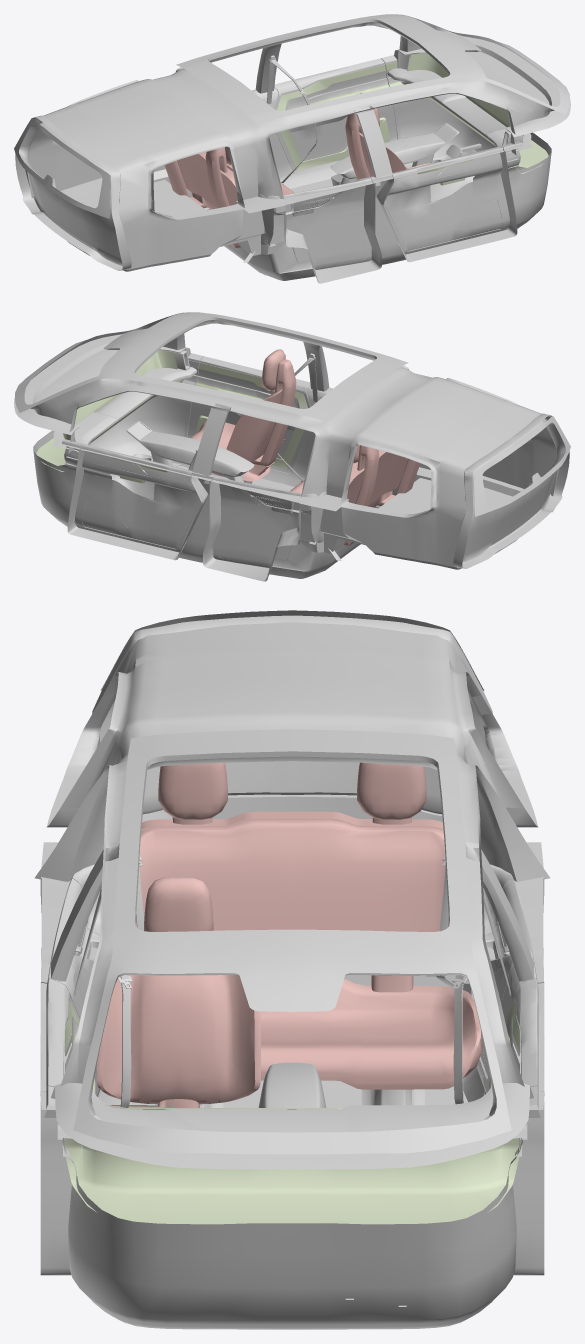
Rendered from dog_carInterior.fbx.
The picture shows the model from 3 angles, top to bottom: view 1: azimuth 30°, elevation 25°; view 2: azimuth 150°, elevation 25°; view 3: azimuth 270°, elevation 25°; orthographic projection. The views are drawn at different scales.
Visible parts, largest first — view 1: Cabin; view 2: Cabin; view 3: Cabin.
Boxes of the visible parts, x1=… form: Cabin: x1=14, y1=14, x2=570, y2=283; Cabin: x1=14, y1=312, x2=570, y2=581; Cabin: x1=34, y1=610, x2=550, y2=1329.
Size of the model in its own units: 389 by 126 by 176.
